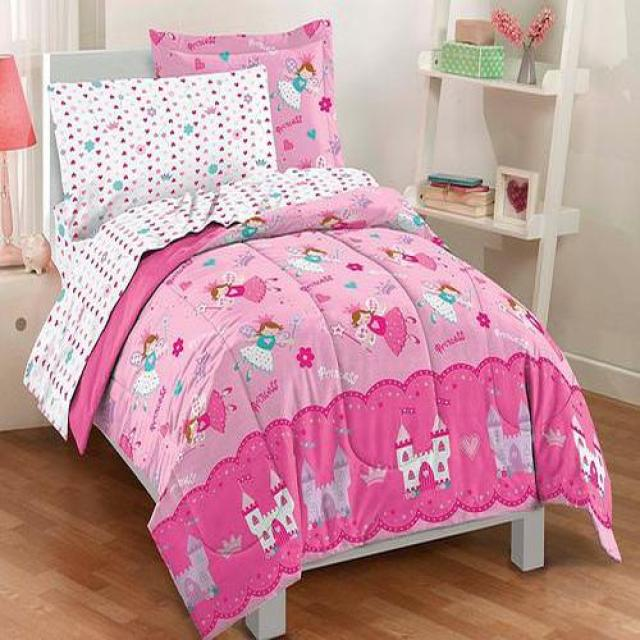bed: (23, 54, 620, 640)
